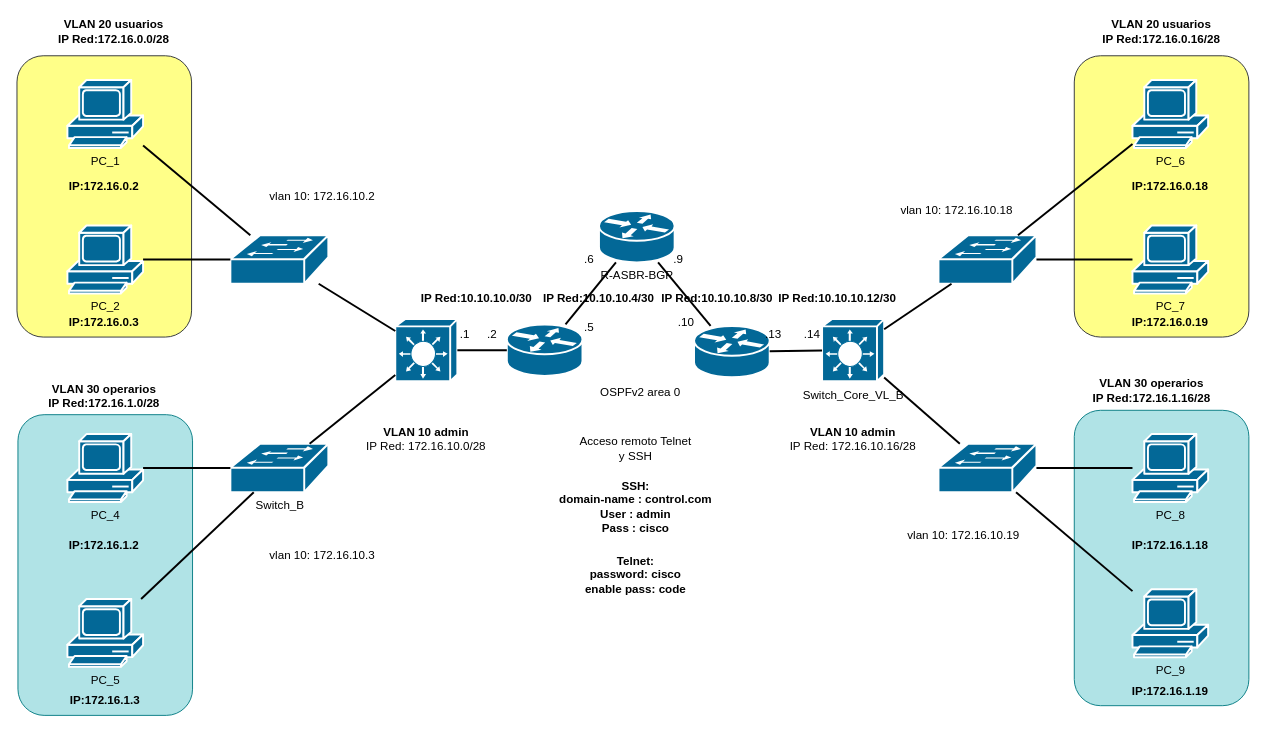
Image size: 1266x732. Some labels were removed from this diagram. The shapes that lost their labels are listed below. From the top down, each one's box as (x1, y1, x2, y2) in pixels, then its label:
(229, 234, 329, 284): Switch_A
(937, 234, 1037, 284): Switch_C
(394, 318, 458, 382): Switch_Core_VL_A
(505, 323, 583, 376): R-CORE-A
(693, 324, 770, 378): R-CORE-B
(937, 442, 1037, 493): Switch_D
